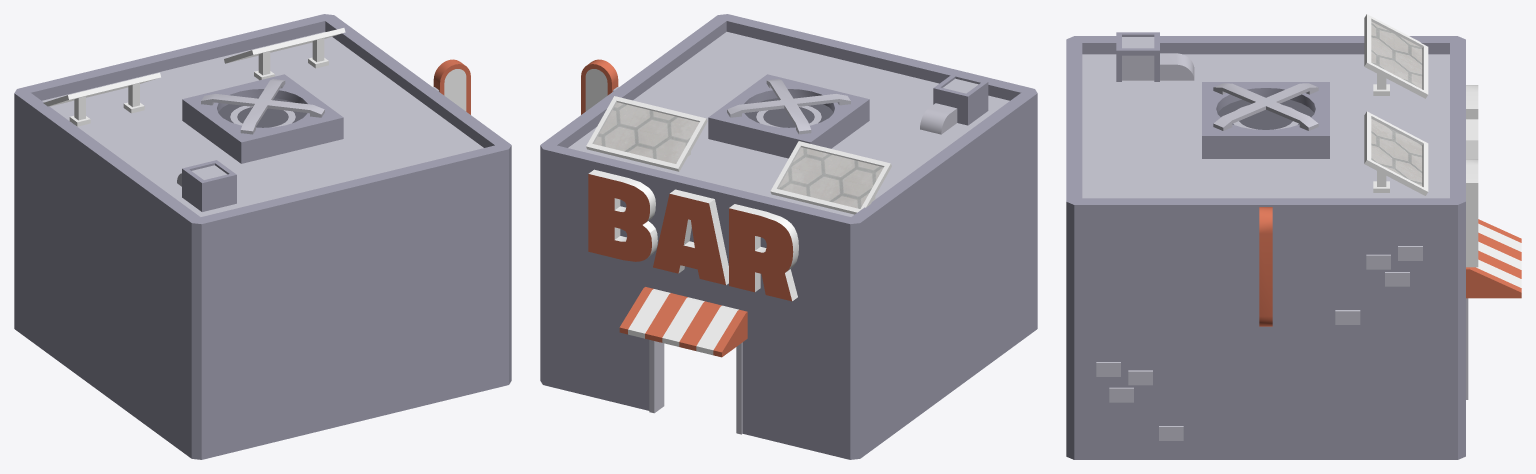
The model's file is bar_2.fbx.
3 renders of one model, left to right at view 1: azimuth 30°, elevation 25°; view 2: azimuth 150°, elevation 25°; view 3: azimuth 270°, elevation 25°, orthographic. The views are drawn at different scales.
Parts seen in each view (by area): view 1: wall_straight_102, wall_straight_114, wall_straight_49, wall_straight_48, wall_straight_113, wall_straight_47, detail_airHuge_67, roof_corner_58, roof_side_53, wall_straight_37, wall_straight_112, roof_corner_59 (+13 smaller); view 2: sign_textBar_66, wall_straight_44, wall_straight_63, wall_straight_108, detail_airHuge_67, roof_corner_58, wall_straight_35, wall_straight_106, wall_straight_36, wall_straight_109, wall_straight_111, wall_straight_112 (+15 smaller); view 3: wall_straight_62, wall_straight_103, wall_straight_125, wall_straight_32, wall_straight_105, wall_straight_104, roof_corner_58, detail_airHuge_67, roof_side_57, roof_corner_61, roof_side_53, roof_side_55 (+12 smaller).
Part boxes in pixels (left/top/right/bottom): wall_straight_102: left=406, top=167, right=511, bottom=302; wall_straight_114: left=201, top=220, right=304, bottom=352; wall_straight_49: left=201, top=328, right=304, bottom=459; wall_straight_48: left=304, top=303, right=406, bottom=434; wall_straight_113: left=304, top=195, right=406, bottom=327; wall_straight_47: left=406, top=278, right=508, bottom=409; detail_airHuge_67: left=182, top=74, right=343, bottom=163; roof_corner_58: left=337, top=100, right=511, bottom=195; roof_side_53: left=238, top=140, right=408, bottom=220; wall_straight_37: left=132, top=309, right=201, bottom=459; wall_straight_112: left=132, top=201, right=201, bottom=352; roof_corner_59: left=132, top=162, right=304, bottom=245; sign_textBar_66: left=588, top=169, right=798, bottom=301; wall_straight_44: left=747, top=328, right=850, bottom=459; wall_straight_63: left=543, top=278, right=645, bottom=409; wall_straight_108: left=747, top=232, right=860, bottom=352; detail_airHuge_67: left=708, top=74, right=869, bottom=158; roof_corner_58: left=659, top=14, right=831, bottom=92; wall_straight_35: left=850, top=309, right=919, bottom=459; wall_straight_106: left=543, top=170, right=645, bottom=300; wall_straight_36: left=919, top=265, right=978, bottom=415; wall_straight_109: left=860, top=201, right=919, bottom=351; wall_straight_111: left=919, top=158, right=978, bottom=307; wall_straight_112: left=978, top=115, right=1037, bottom=264; wall_straight_62: left=1330, top=341, right=1465, bottom=459; wall_straight_103: left=1074, top=228, right=1201, bottom=343; wall_straight_125: left=1202, top=344, right=1329, bottom=459; wall_straight_32: left=1066, top=341, right=1201, bottom=459; wall_straight_105: left=1330, top=225, right=1465, bottom=343; wall_straight_104: left=1202, top=228, right=1329, bottom=343; roof_corner_58: left=1066, top=144, right=1209, bottom=228; detail_airHuge_67: left=1202, top=82, right=1329, bottom=158; roof_side_57: left=1194, top=156, right=1337, bottom=228; roof_corner_61: left=1322, top=144, right=1465, bottom=228; roof_side_53: left=1066, top=92, right=1209, bottom=162; roof_side_55: left=1194, top=36, right=1337, bottom=108.
Size of the model in its own units: 35.63 by 24.43 by 35.62.
